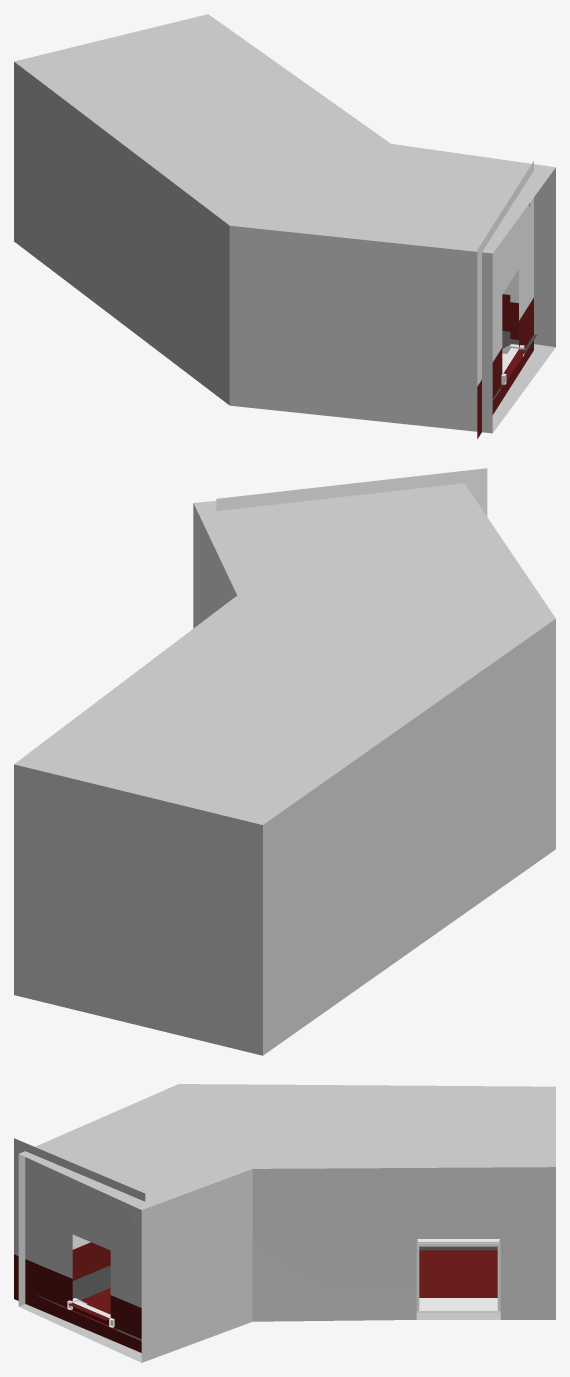
Rendered from SM_H_Building_Tide_Hall_07_ATLAS.fbx.
The picture shows the model from 3 angles, top to bottom: view 1: azimuth 30°, elevation 25°; view 2: azimuth 150°, elevation 25°; view 3: azimuth 270°, elevation 25°; orthographic projection. The views are drawn at different scales.
Parts seen in each view (by area): view 1: SM_H_Building_Tide_Hall_07_ATLAS; view 2: SM_H_Building_Tide_Hall_07_ATLAS; view 3: SM_H_Building_Tide_Hall_07_ATLAS.
Part boxes in pixels (box(x1,y1,x2,y2)): SM_H_Building_Tide_Hall_07_ATLAS: box(14, 14, 555, 438); SM_H_Building_Tide_Hall_07_ATLAS: box(14, 468, 555, 1055); SM_H_Building_Tide_Hall_07_ATLAS: box(14, 1084, 555, 1362).
Size of the model in its own units: 1039 by 1886 by 618.
